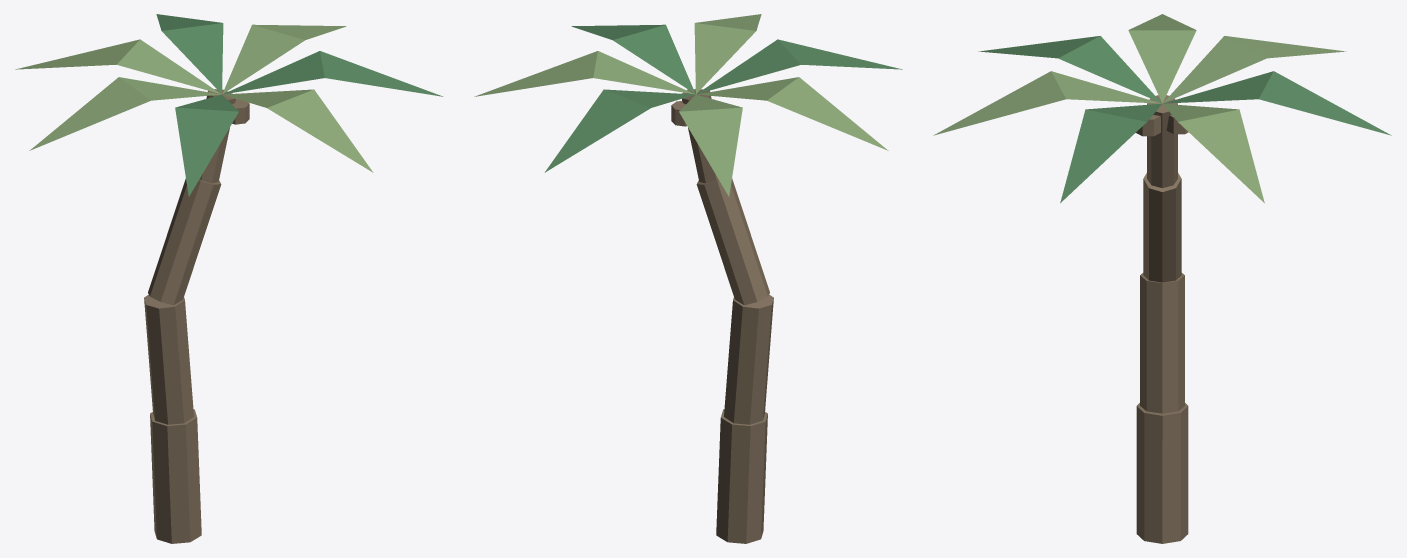
The model's file is NAT_Palm_B.fbx.
The picture shows the model from 3 angles, left to right: view 1: azimuth 30°, elevation 25°; view 2: azimuth 150°, elevation 25°; view 3: azimuth 270°, elevation 25°; orthographic projection. The views are drawn at different scales.
Visible parts, largest first — view 1: NAT_Palm_B_ENV_Bark, NAT_Palm_B_ENV_Moss, NAT_Palm_B_MAT_IslandTree; view 2: NAT_Palm_B_ENV_Bark, NAT_Palm_B_ENV_Moss, NAT_Palm_B_MAT_IslandTree; view 3: NAT_Palm_B_ENV_Bark, NAT_Palm_B_ENV_Moss, NAT_Palm_B_MAT_IslandTree.
Part boxes in pixels (box(x1,y1,x2,y2)): NAT_Palm_B_ENV_Bark: box(144, 89, 249, 543); NAT_Palm_B_ENV_Moss: box(15, 24, 373, 172); NAT_Palm_B_MAT_IslandTree: box(156, 14, 443, 196); NAT_Palm_B_ENV_Bark: box(671, 89, 773, 543); NAT_Palm_B_ENV_Moss: box(474, 14, 888, 196); NAT_Palm_B_MAT_IslandTree: box(544, 24, 902, 172); NAT_Palm_B_ENV_Bark: box(1136, 95, 1188, 543); NAT_Palm_B_ENV_Moss: box(933, 14, 1346, 203); NAT_Palm_B_MAT_IslandTree: box(978, 36, 1391, 203).
Size of the model in its own units: 485 by 575 by 497.
